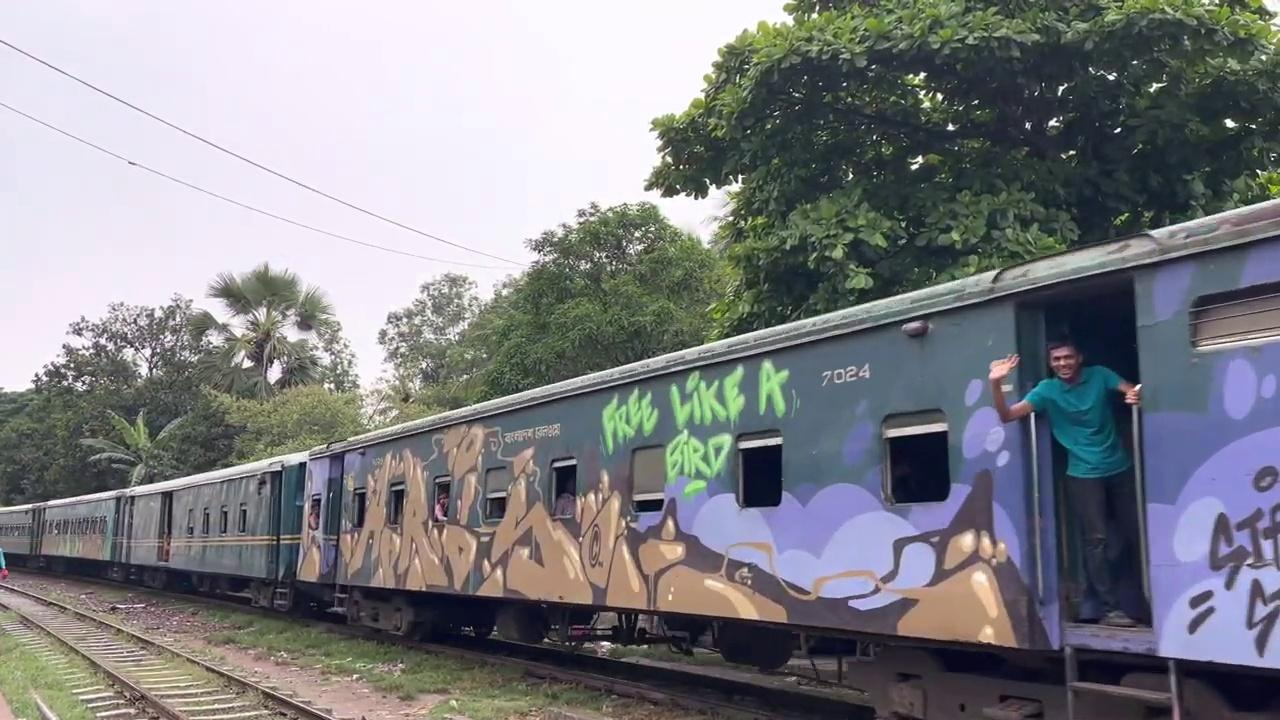Fence: (987, 334, 1147, 627)
Garbage: (1015, 305, 1048, 609), (1127, 384, 1151, 606), (1027, 409, 1043, 603)
Motorcycle: (0, 577, 334, 718)
Potted-plant: (2, 197, 1277, 717)
Railroad-crossing: (642, 0, 1279, 338), (459, 199, 730, 401), (185, 260, 345, 400), (374, 269, 488, 414)
